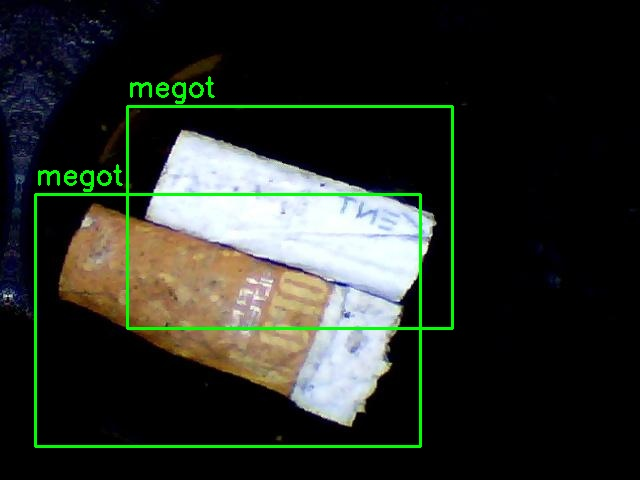megot: (35, 194, 420, 446), (127, 106, 452, 328)
